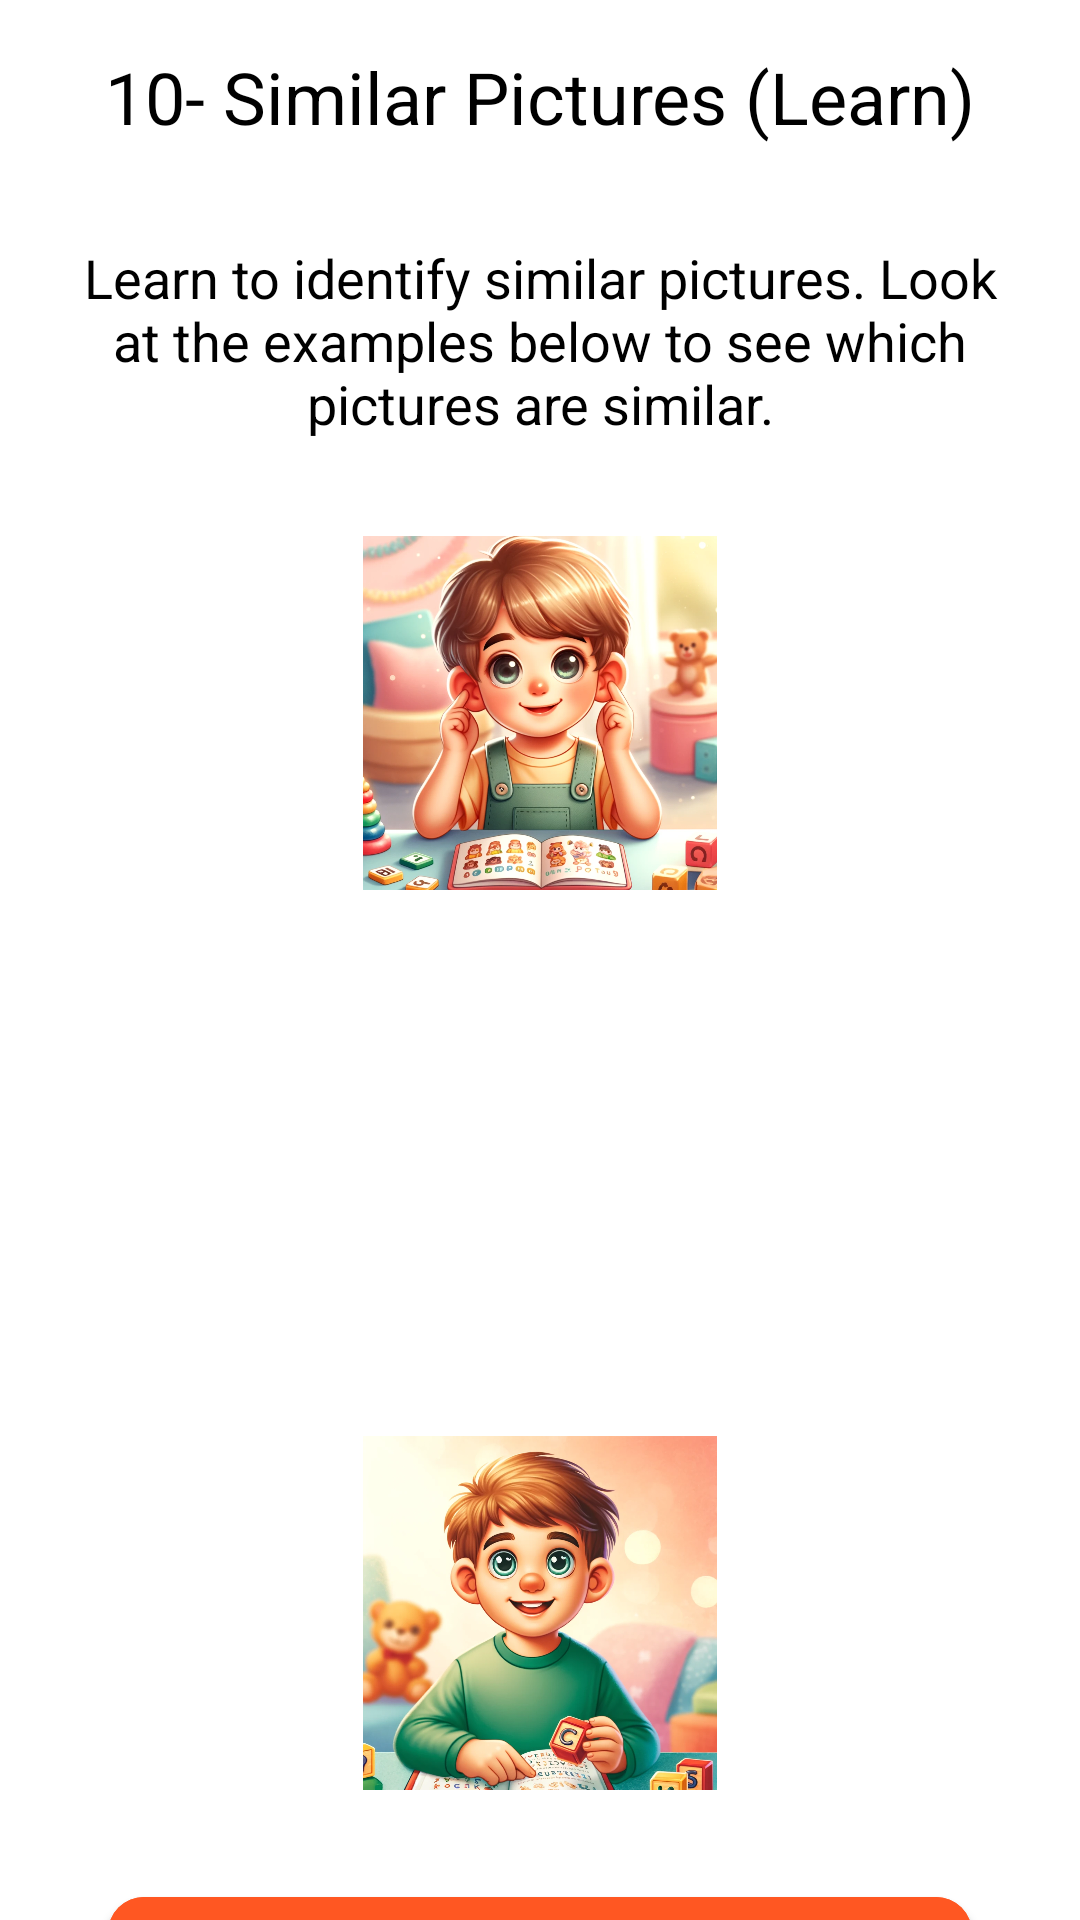

Where icons sit on this 1080 × 1920 app screen, as box=[x1, y1, x2, y2]:
Similar picture 1: box=[363, 536, 717, 890]
